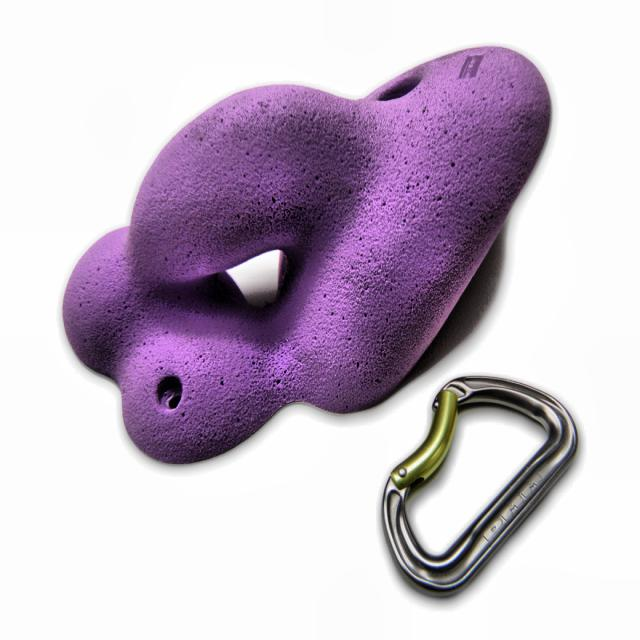Hold: (59, 42, 552, 470)
